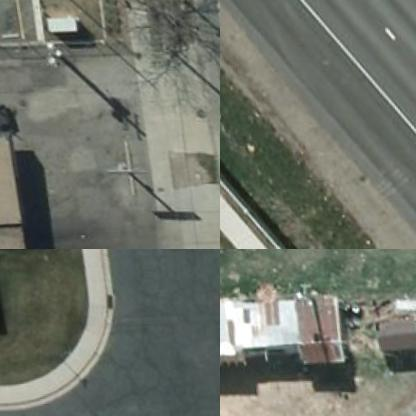car: (0, 104, 16, 143)
